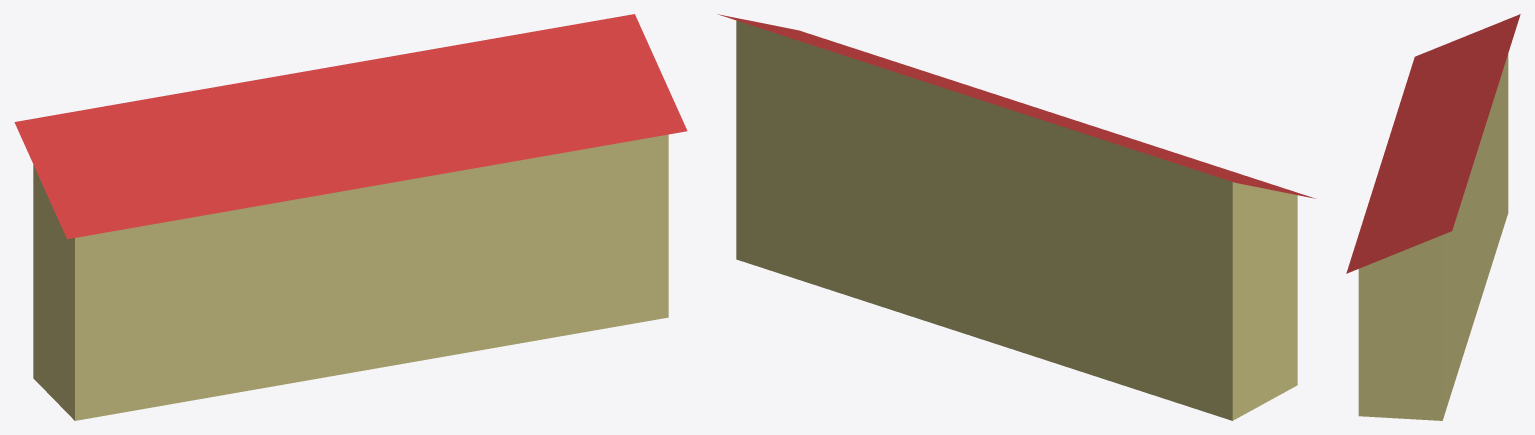
3 views of the same model, side by side, from view 1: azimuth 30°, elevation 25°; view 2: azimuth 150°, elevation 25°; view 3: azimuth 270°, elevation 25° (orthographic). The views are drawn at different scales.
Parts seen in each view (by area): view 1: group_5, group_3, group_4; view 2: group_5, group_3, group_4; view 3: group_5, group_3, group_4.
Boxes of the visible parts, x1,y1,x2,y2 form: group_5: [33, 134, 668, 420]; group_3: [33, 14, 687, 238]; group_4: [14, 14, 632, 239]; group_5: [736, 20, 1297, 420]; group_3: [718, 14, 1296, 193]; group_4: [737, 20, 1314, 198]; group_5: [1358, 54, 1508, 420]; group_3: [1346, 23, 1507, 273]; group_4: [1401, 14, 1520, 228].
Size of the model in its own units: 23.74 by 7.85 by 9.69.
